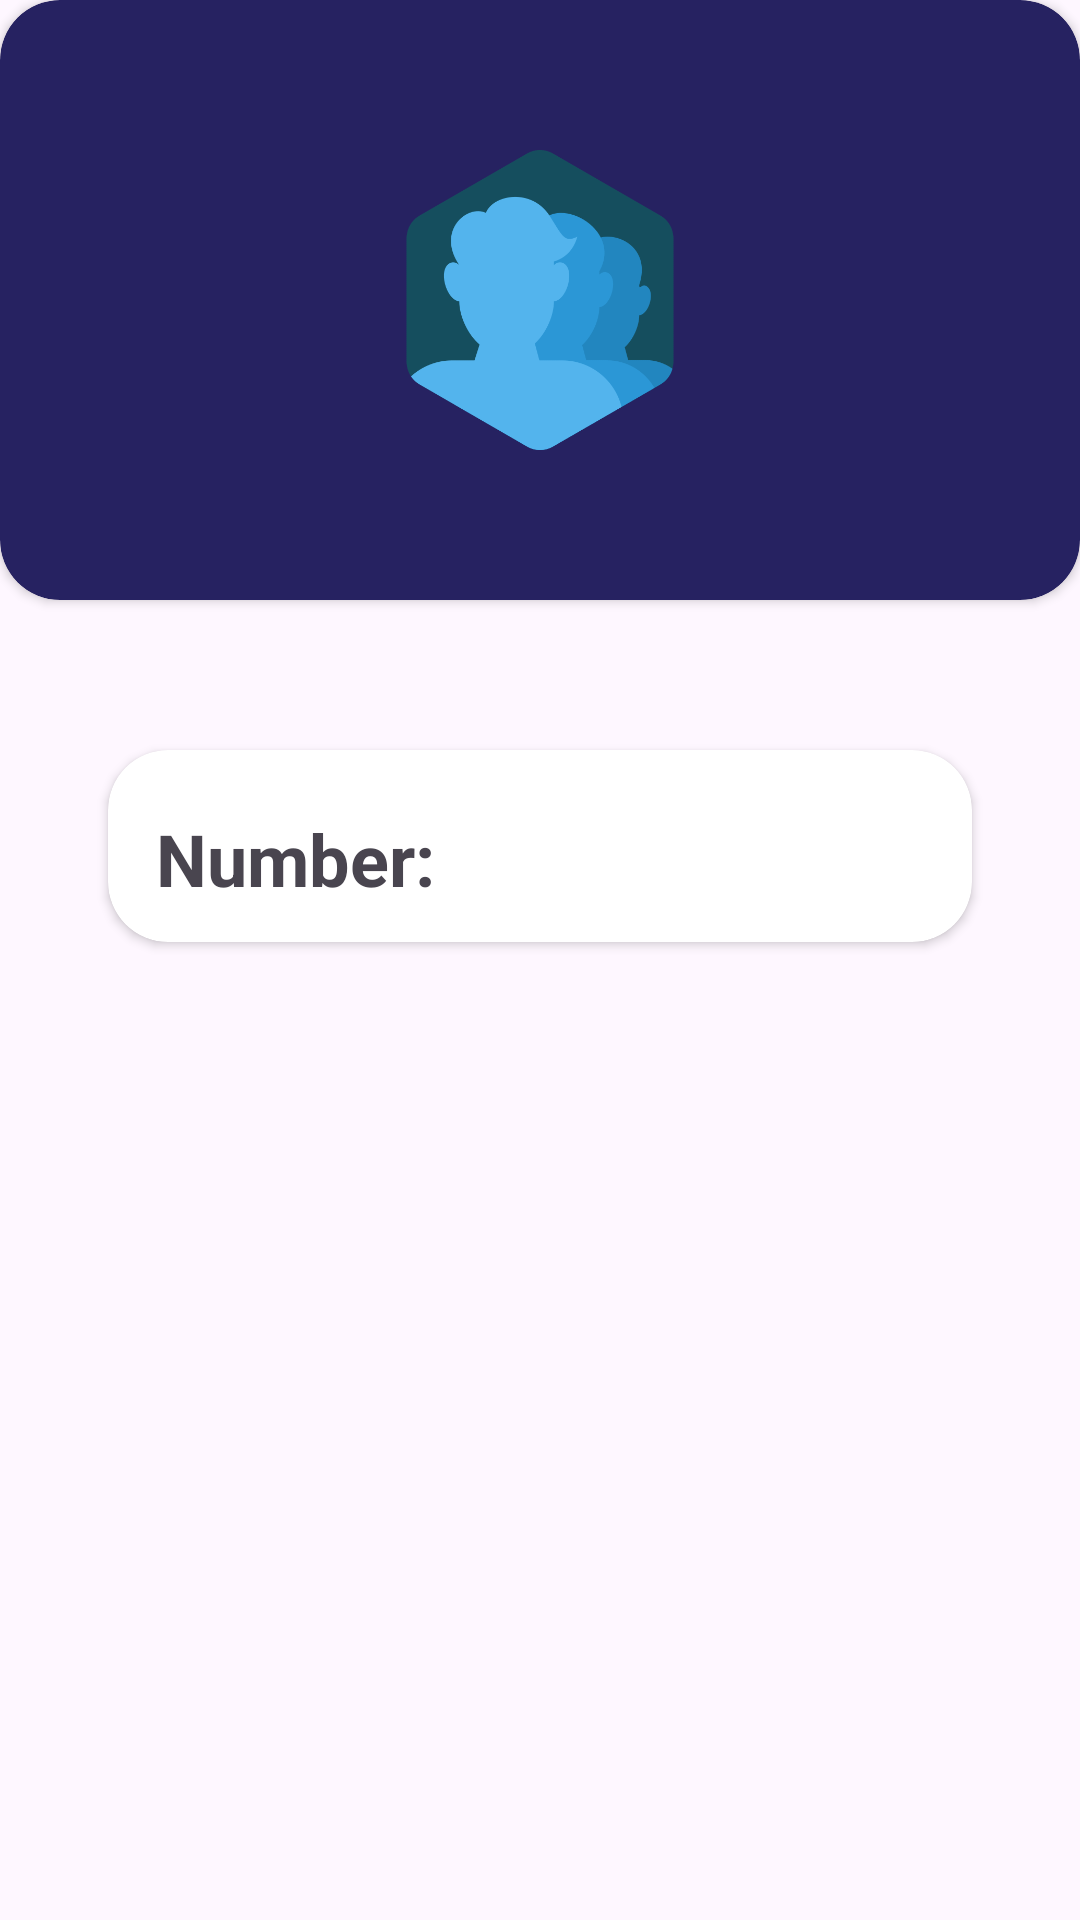

Where to tap for icons on this 1080×1920 app screen, as [x,y]:
contactimg: [540,300]
